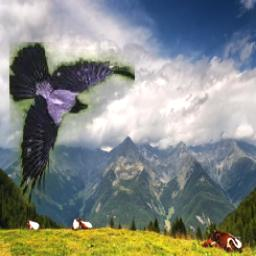Crow: (9, 43, 135, 208)
